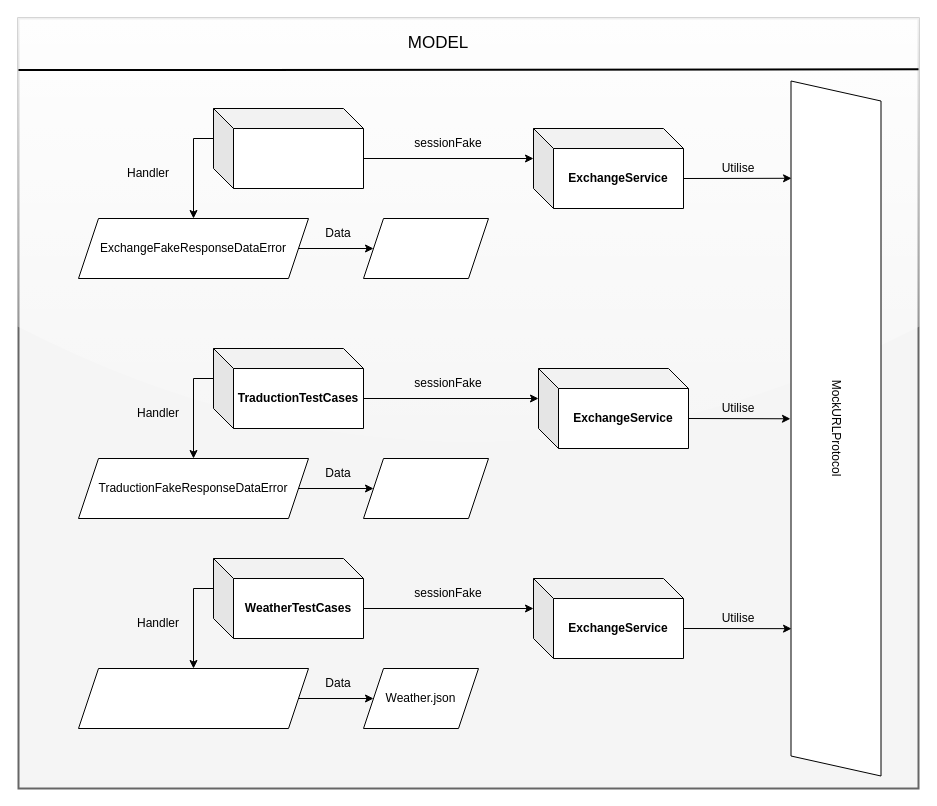
Image size: 937x806. Some labels were removed from this diagram. Here are the shapes that lost their labels. From the top down, the centre of each, then its label:
(x=288, y=148): ExchangeTestCases
(x=425, y=248): Exchange.json
(x=425, y=488): Traduction.json
(x=193, y=698): WeatherFakeResponseDataError
